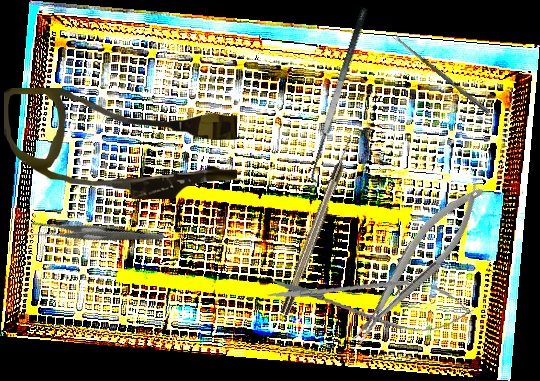Cannula: (4, 88, 237, 199)
Dressing Forceps: (27, 187, 165, 282)
Hook Surgical: (278, 133, 357, 316)
Micro Scissor: (263, 262, 477, 339)
Needle Holder: (335, 174, 498, 353)
Spatula Surgical: (301, 6, 384, 186)
Surgical Spoon: (392, 33, 490, 114)
